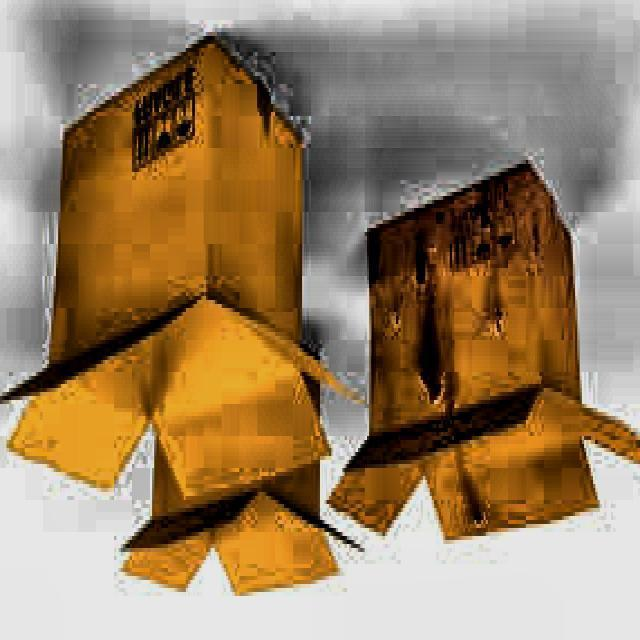cardboard: (0, 36, 363, 600), (326, 160, 640, 548)
